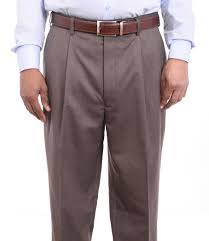F_belt: (44, 6, 173, 44)
